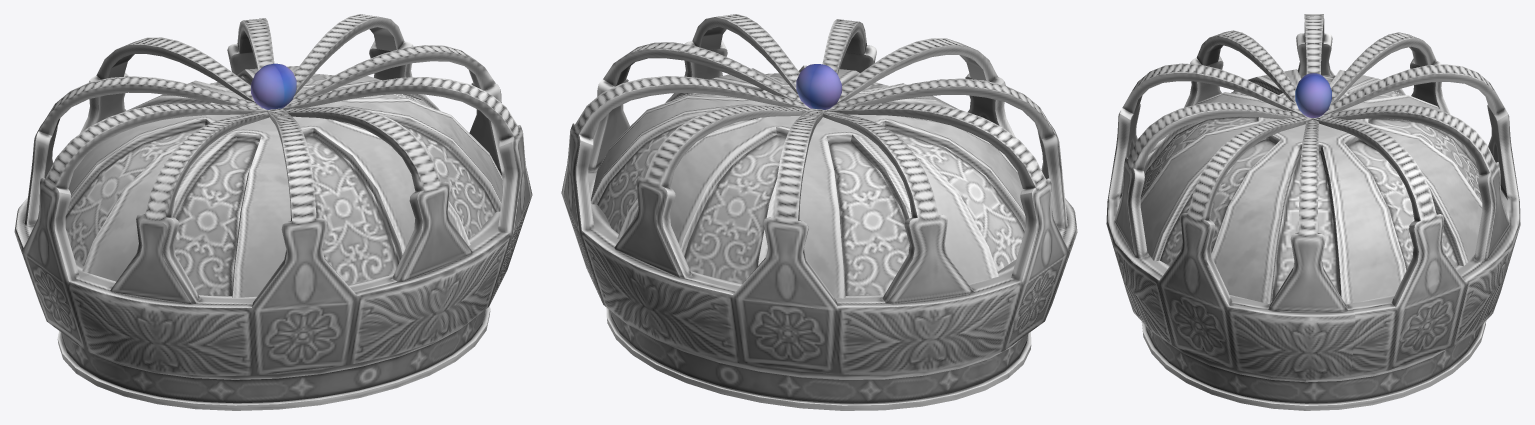
Rendered from SM_Big_Crown_Silver.fbx.
3 views of the same model, side by side, from view 1: azimuth 30°, elevation 25°; view 2: azimuth 150°, elevation 25°; view 3: azimuth 270°, elevation 25° (orthographic). The views are drawn at different scales.
Visible parts, largest first — view 1: SM_Big_Crown_Silver_LOD0; view 2: SM_Big_Crown_Silver_LOD0; view 3: SM_Big_Crown_Silver_LOD0.
Boxes of the visible parts, x1,y1,x2,y2 form: SM_Big_Crown_Silver_LOD0: (14, 14, 532, 410); SM_Big_Crown_Silver_LOD0: (561, 14, 1077, 410); SM_Big_Crown_Silver_LOD0: (1106, 14, 1520, 410).
Size of the model in its own units: 24.59 by 20.23 by 13.33.
